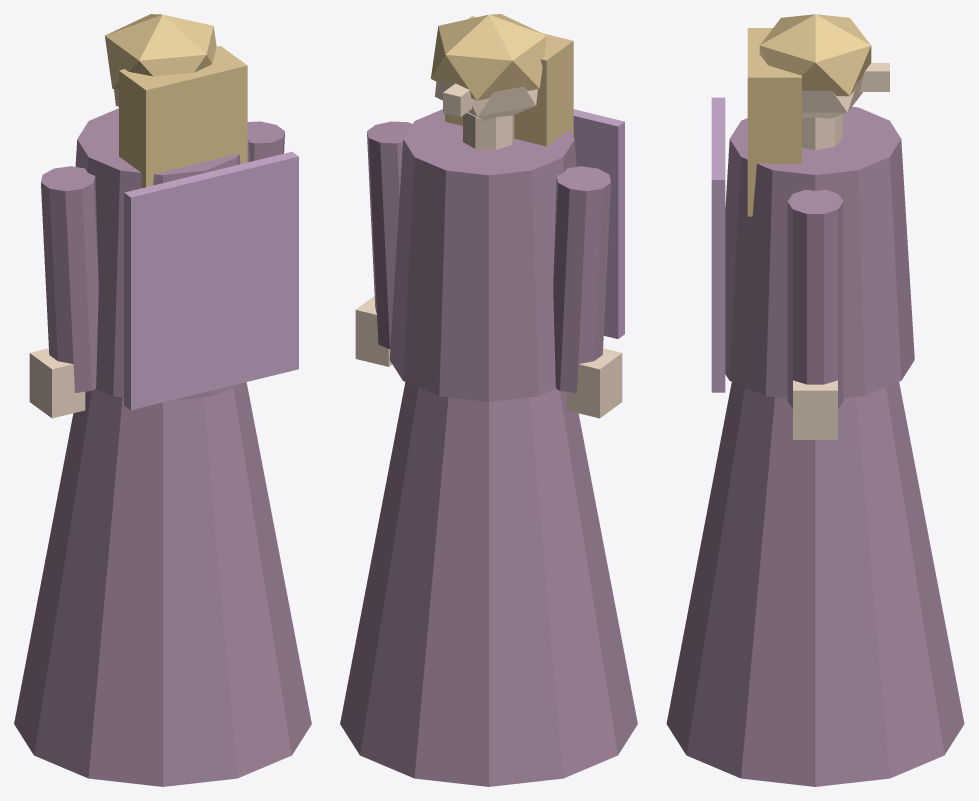
The model's file is noble_woman.glb.
3 renders of one model, left to right at view 1: azimuth 30°, elevation 25°; view 2: azimuth 150°, elevation 25°; view 3: azimuth 270°, elevation 25°, orthographic.
Parts seen in each view (by area): view 1: noble_woman; view 2: noble_woman; view 3: noble_woman.
Boxes of the visible parts, box(x1,y1,x2,y2) form: noble_woman: box(14, 14, 311, 786); noble_woman: box(340, 14, 637, 786); noble_woman: box(666, 14, 964, 786).
Size of the model in its own units: 0.6864 by 1.8 by 0.6864.
